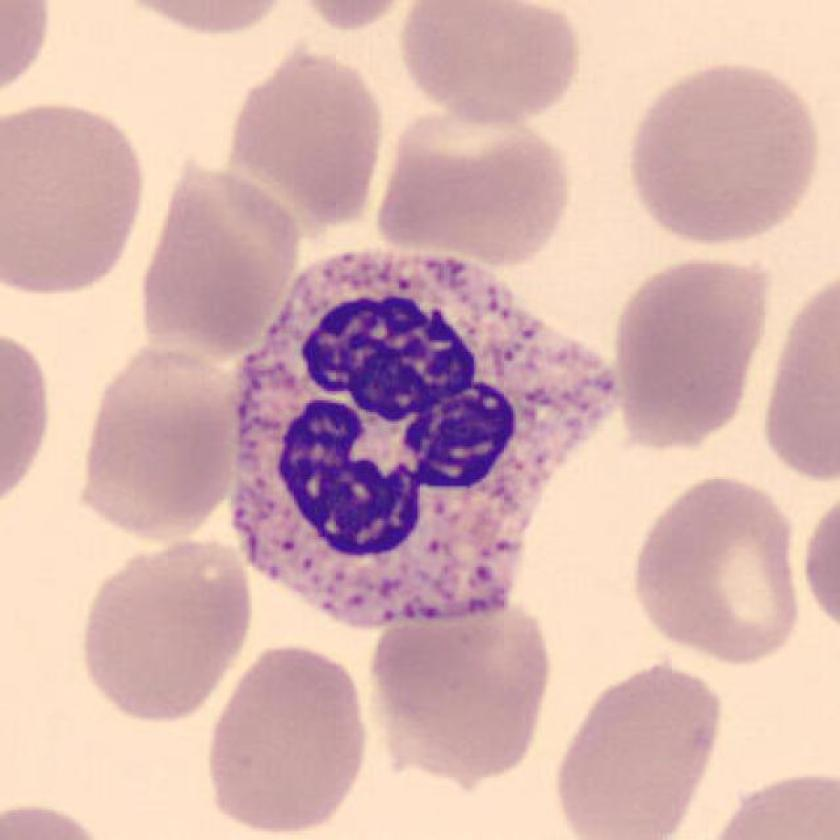neutrophil: (231, 252, 615, 619)
